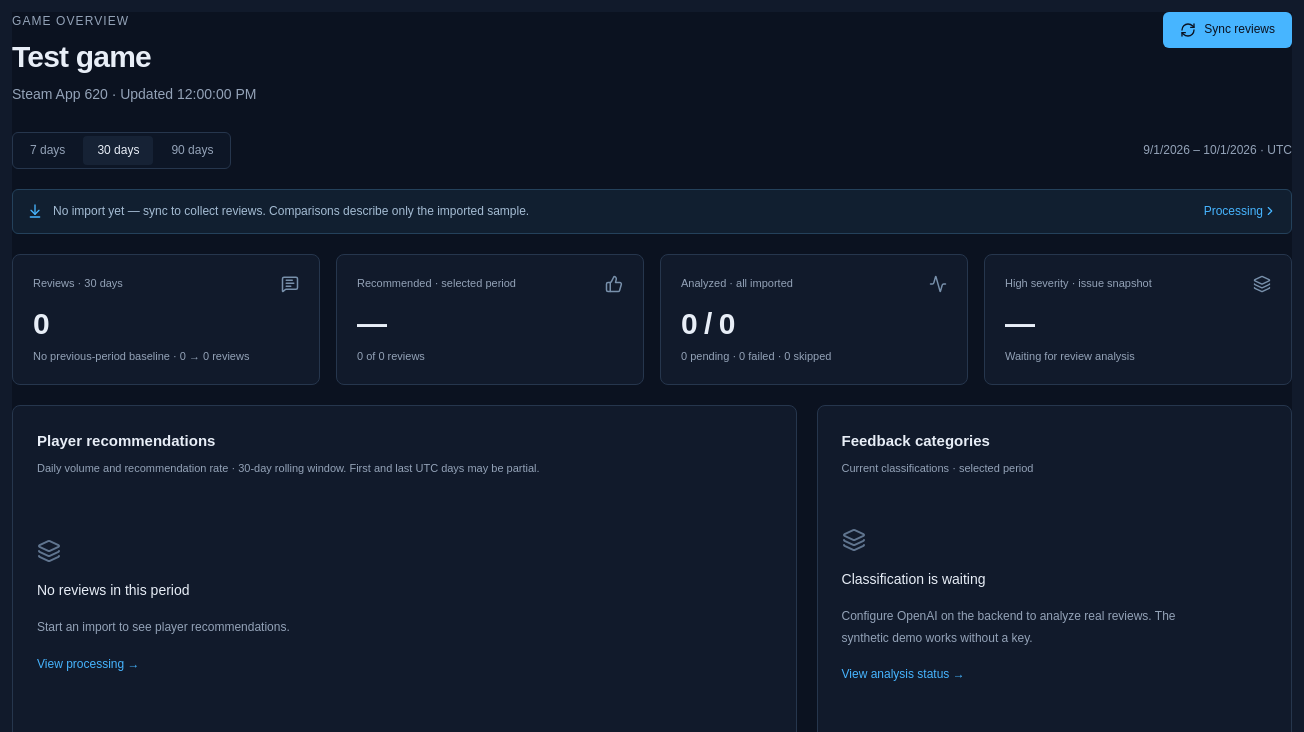
Test: sends live sync and disables it while the import runs
Check: the heading "Test game" is shown, box [12, 40, 151, 73]
Click the button "Sync reviews" at [1228, 30], box [1163, 12, 1292, 48]
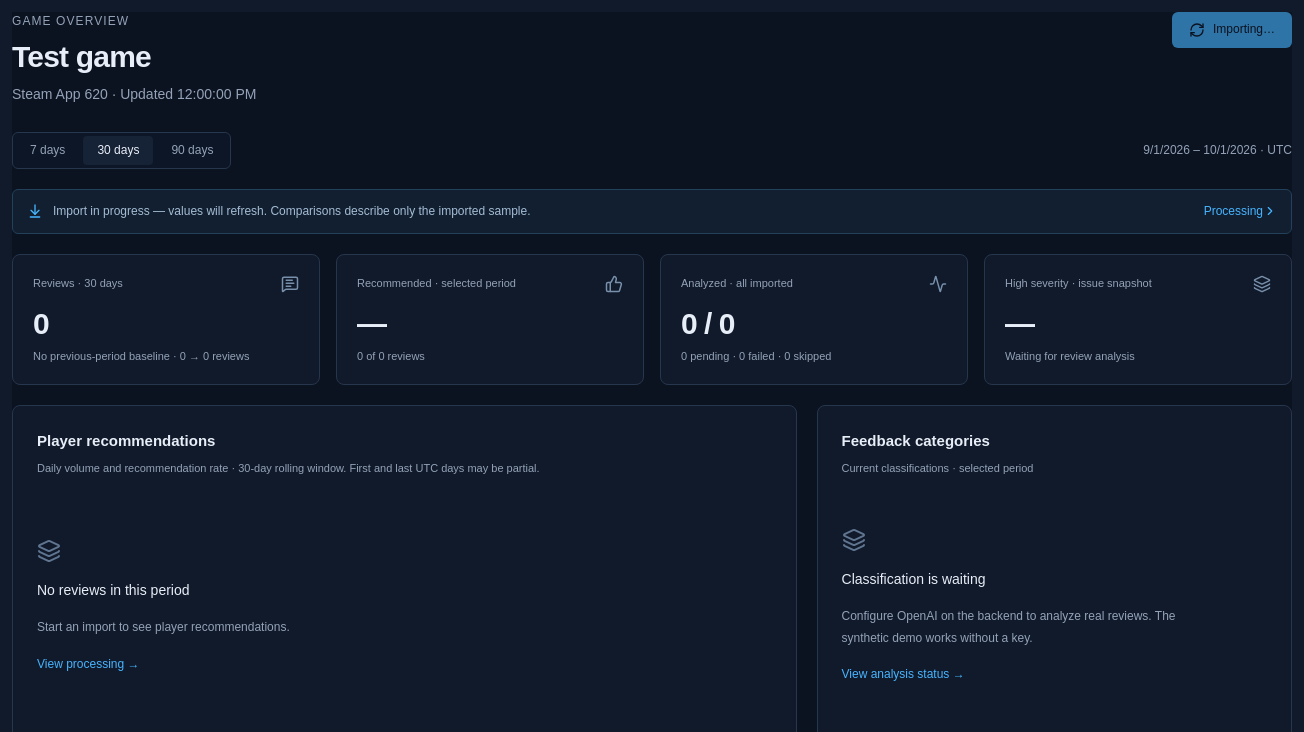
Check: the button "Importing…" is disabled, box [1172, 12, 1292, 48]
